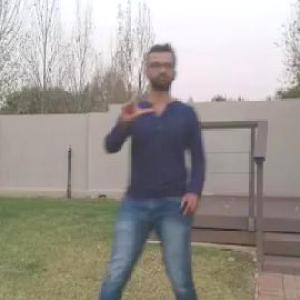land_hand: (118, 81, 154, 122)
